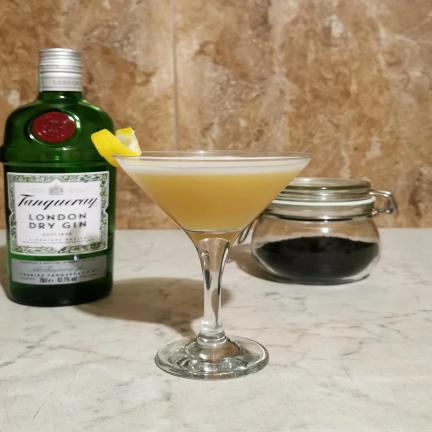container: (115, 151, 312, 233), (251, 213, 380, 285)
fluid: (122, 163, 309, 229)
fluid-surface: (117, 158, 307, 168)
